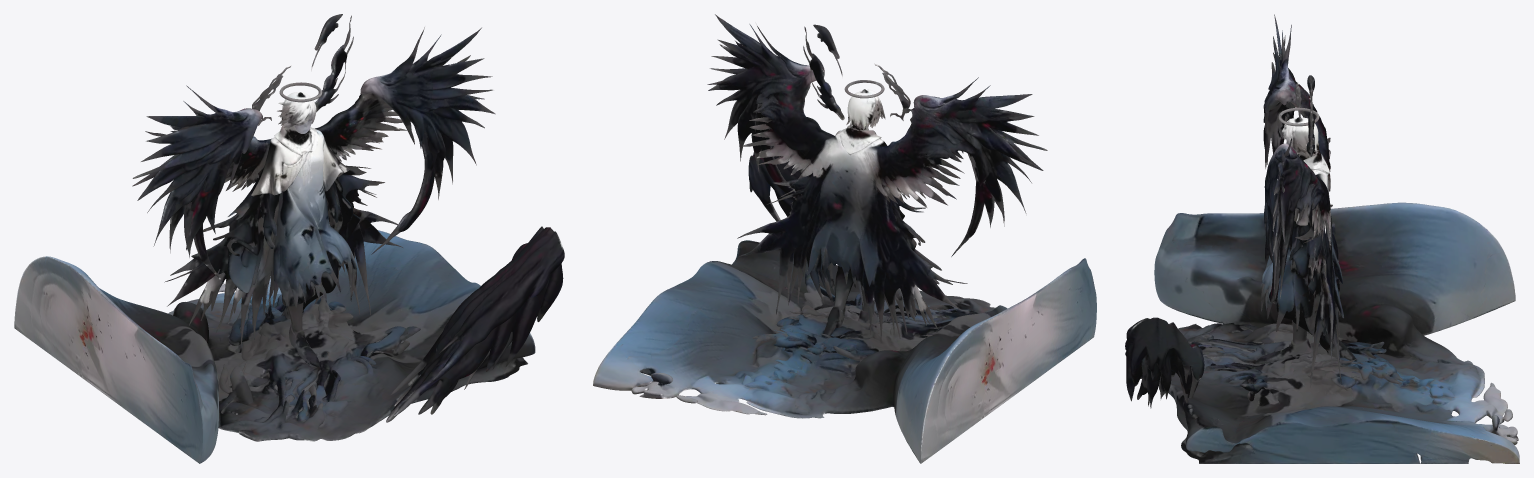
File: shadow-slave-model.glb
3 views of the same model, side by side, from view 1: azimuth 30°, elevation 25°; view 2: azimuth 150°, elevation 25°; view 3: azimuth 270°, elevation 25° (orthographic). The views are drawn at different scales.
Parts seen in each view (by area): view 1: model; view 2: model; view 3: model.
Part boxes in pixels (x1=…): model: x1=14, y1=14, x2=564, y2=463; model: x1=593, y1=14, x2=1096, y2=463; model: x1=1125, y1=14, x2=1519, y2=463.
Size of the model in its own units: 1.95 by 1.74 by 1.92.
Materials: 1 (1 with a texture image).
